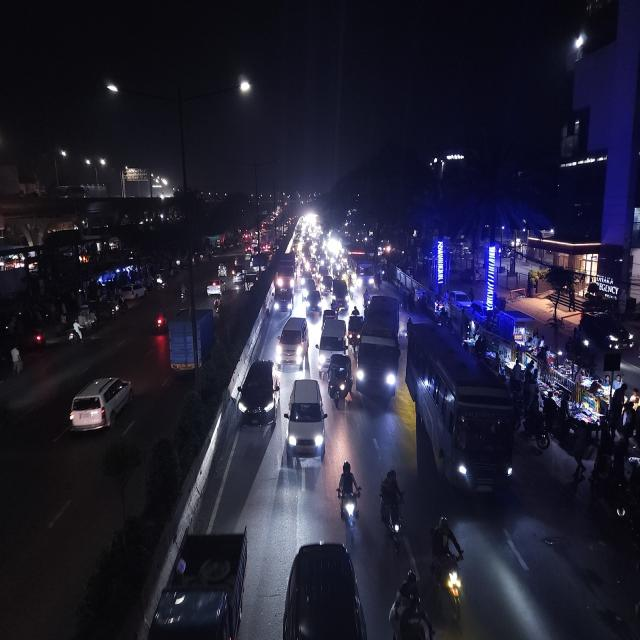bus: (410, 325, 518, 506), (355, 292, 403, 408), (349, 249, 375, 289)
car: (279, 536, 370, 640), (66, 370, 135, 440), (285, 375, 327, 468), (236, 355, 279, 430), (276, 313, 310, 372), (318, 312, 348, 373), (330, 277, 350, 312), (447, 287, 471, 311), (304, 288, 325, 312), (204, 277, 224, 296), (244, 271, 258, 294), (231, 266, 245, 288)
cng: (328, 348, 352, 411), (216, 258, 228, 278)
motorcycle: (431, 520, 466, 622), (388, 566, 436, 640), (379, 464, 404, 553), (336, 456, 362, 540), (347, 306, 361, 355), (66, 320, 86, 345), (30, 327, 48, 351), (153, 307, 167, 335), (212, 294, 222, 319)
pedestrian: (8, 346, 24, 378)
pickup_van: (141, 523, 253, 639), (274, 287, 293, 316)
truck: (166, 303, 218, 380), (278, 250, 296, 293)
